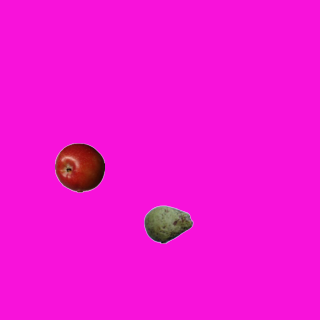Apple Braeburn: (54, 142, 104, 192)
Pear Stone: (143, 199, 193, 249)
